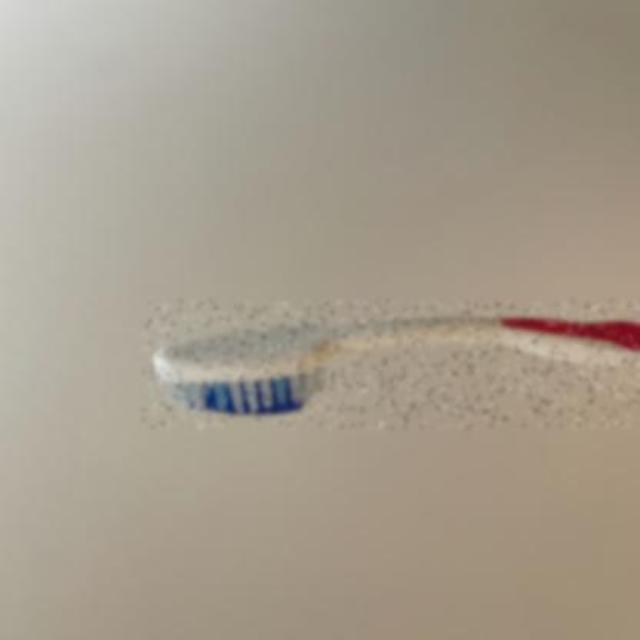toothbrush: (144, 300, 640, 430)
